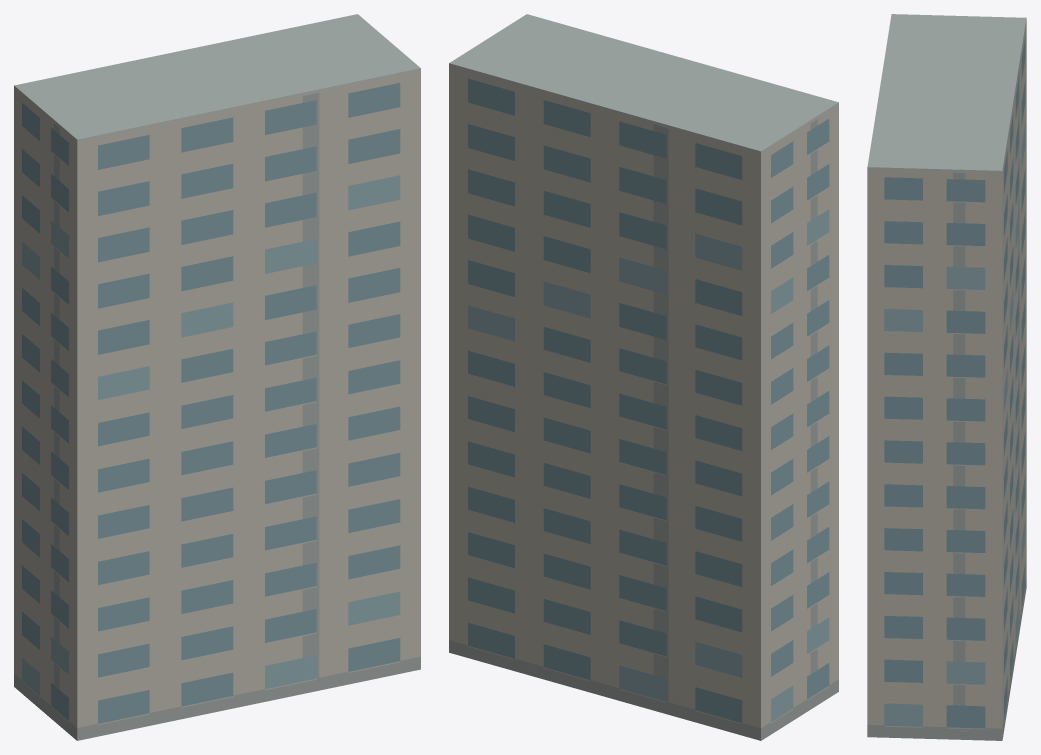
File: residential-4822d976-c261-4931-83ec-038755f9cc26.glb
3 renders of one model, left to right at view 1: azimuth 30°, elevation 25°; view 2: azimuth 150°, elevation 25°; view 3: azimuth 270°, elevation 25°, orthographic. The views are drawn at different scales.
Visible parts, largest first — view 1: residential-4822d976-c261-4931-83ec-038755f9cc26.tmp; view 2: residential-4822d976-c261-4931-83ec-038755f9cc26.tmp; view 3: residential-4822d976-c261-4931-83ec-038755f9cc26.tmp.
Boxes of the visible parts, <box> form: residential-4822d976-c261-4931-83ec-038755f9cc26.tmp: <box>14,14,420,740</box>; residential-4822d976-c261-4931-83ec-038755f9cc26.tmp: <box>449,14,838,740</box>; residential-4822d976-c261-4931-83ec-038755f9cc26.tmp: <box>867,14,1026,740</box>.
Bounding box in the file's own units: 25.39 × 43 × 10.89.
